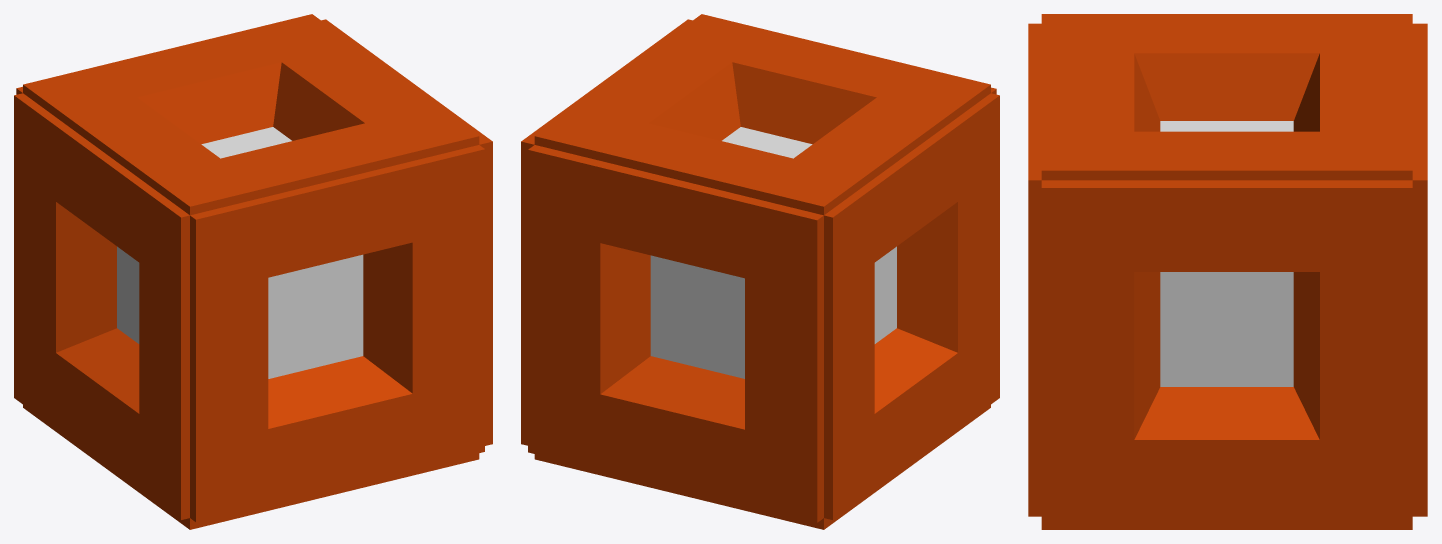
File: Brown Box.fbx
The picture shows the model from 3 angles, left to right: view 1: azimuth 30°, elevation 25°; view 2: azimuth 150°, elevation 25°; view 3: azimuth 270°, elevation 25°; orthographic projection. The views are drawn at different scales.
Visible parts, largest first — view 1: Cube, Cube.001; view 2: Cube, Cube.001; view 3: Cube, Cube.001.
Boxes of the visible parts, <box> form: Cube: <box>14,14,492,529</box>; Cube.001: <box>117,127,363,378</box>; Cube: <box>521,14,999,529</box>; Cube.001: <box>650,127,896,378</box>; Cube: <box>1028,14,1427,529</box>; Cube.001: <box>1160,121,1293,386</box>.
Bounding box in the file's own units: 216 × 214 × 215.
